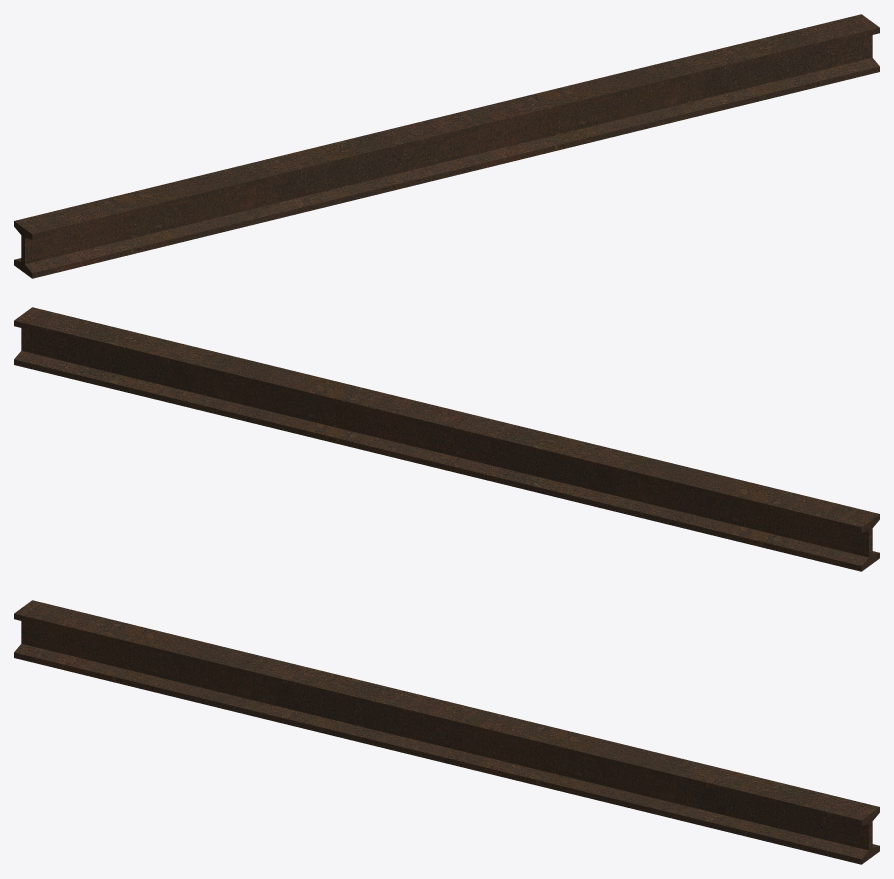
Rendered from beam_hc_horizonatal_1.glb.
3 views of the same model, one above another, from view 1: azimuth 30°, elevation 25°; view 2: azimuth 150°, elevation 25°; view 3: azimuth 330°, elevation 25° (orthographic).
Parts seen in each view (by area): view 1: beam_hc_horizonatal_1; view 2: beam_hc_horizonatal_1; view 3: beam_hc_horizonatal_1.
Part boxes in pixels (left/top/right/bottom): beam_hc_horizonatal_1: left=14, top=14, right=879, bottom=278; beam_hc_horizonatal_1: left=14, top=307, right=879, bottom=571; beam_hc_horizonatal_1: left=14, top=600, right=879, bottom=864.
Size of the model in its own units: 8 by 0.4 by 0.3.
Materials: 1 (1 with a texture image).
